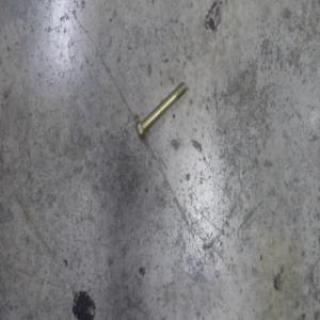Bolttrack_idkeyframe: (134, 78, 188, 140)
